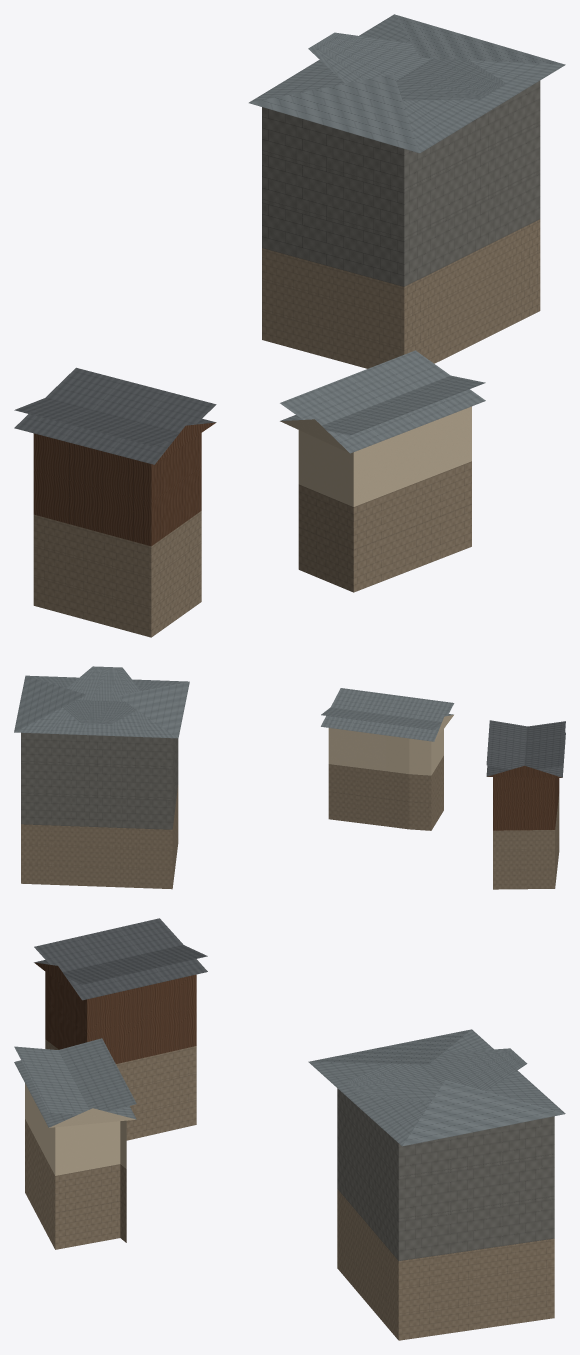
Rendered from bld_c21_32_372.gltf.
3 views of the same model, one above another, from view 1: azimuth 30°, elevation 25°; view 2: azimuth 150°, elevation 25°; view 3: azimuth 270°, elevation 25° (orthographic). The views are drawn at different scales.
Visible parts, largest first — view 1: bld_c21_32_372; view 2: bld_c21_32_372; view 3: bld_c21_32_372.
Part boxes in pixels (x1=…): bld_c21_32_372: x1=14, y1=14, x2=565, y2=637; bld_c21_32_372: x1=14, y1=666, x2=565, y2=889; bld_c21_32_372: x1=14, y1=918, x2=565, y2=1340.
Size of the model in its own units: 40.17 by 16 by 32.07.
8 materials, 8 textured.
